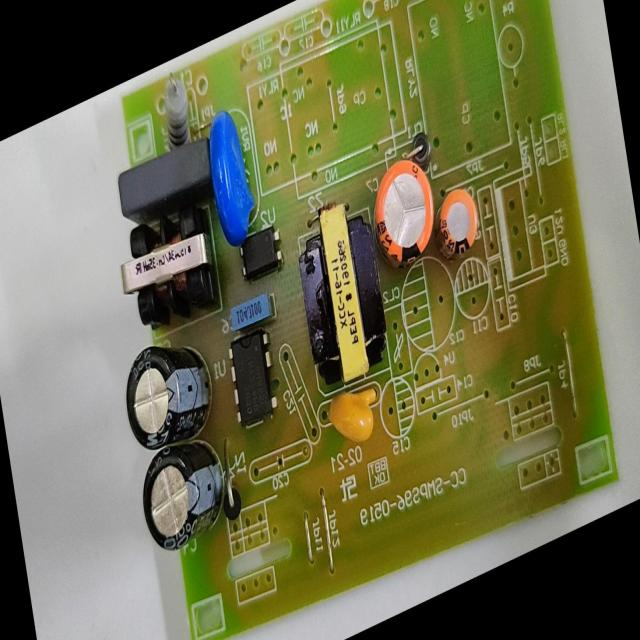Cap1: (366, 144, 443, 283)
Cap2: (434, 177, 484, 270)
Cap3: (116, 317, 218, 468)
Cap4: (130, 424, 234, 569)
MOSFET: (223, 325, 283, 438)
Mov: (200, 97, 262, 257)
Resistor: (157, 66, 197, 154)
Transformer: (288, 183, 395, 405), (111, 194, 226, 356)
